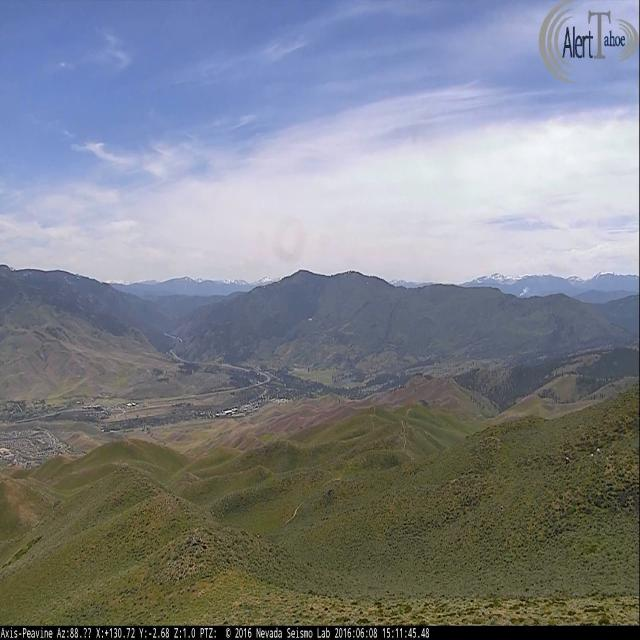smoke: (518, 284, 528, 297)
